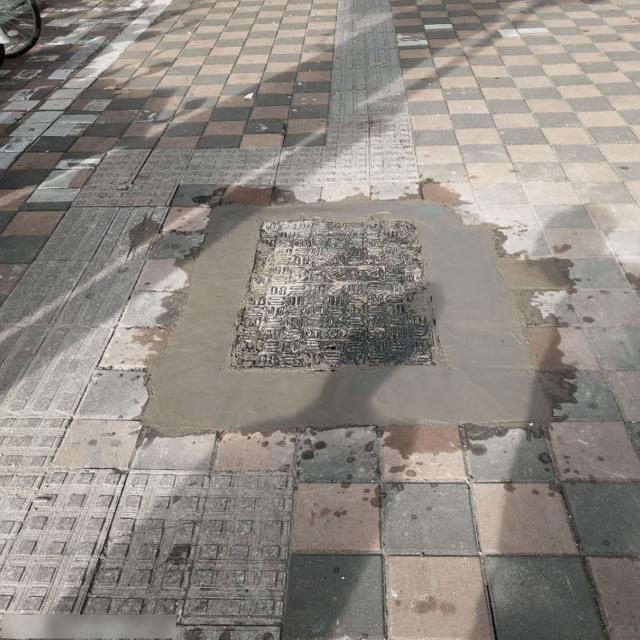good: (224, 215, 452, 371)
